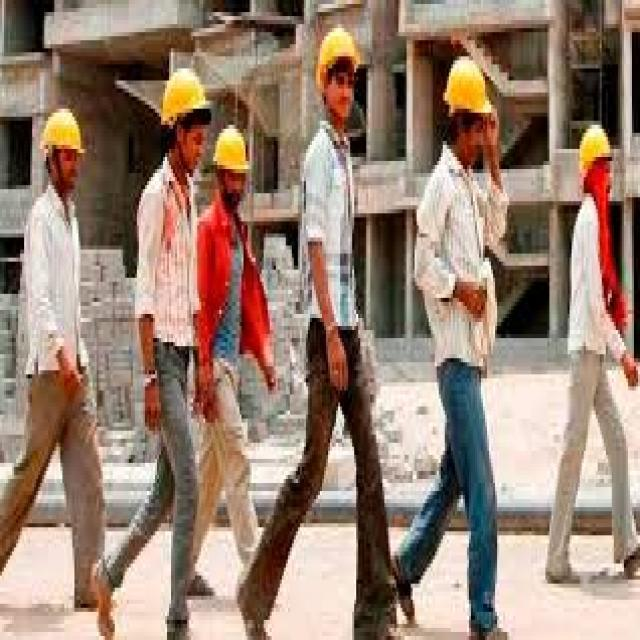reflective_jacket: (191, 197, 269, 406)
safety_helmet: (154, 56, 215, 140), (309, 16, 366, 100), (440, 44, 497, 124), (38, 96, 90, 169), (211, 116, 255, 189), (573, 116, 613, 177)
